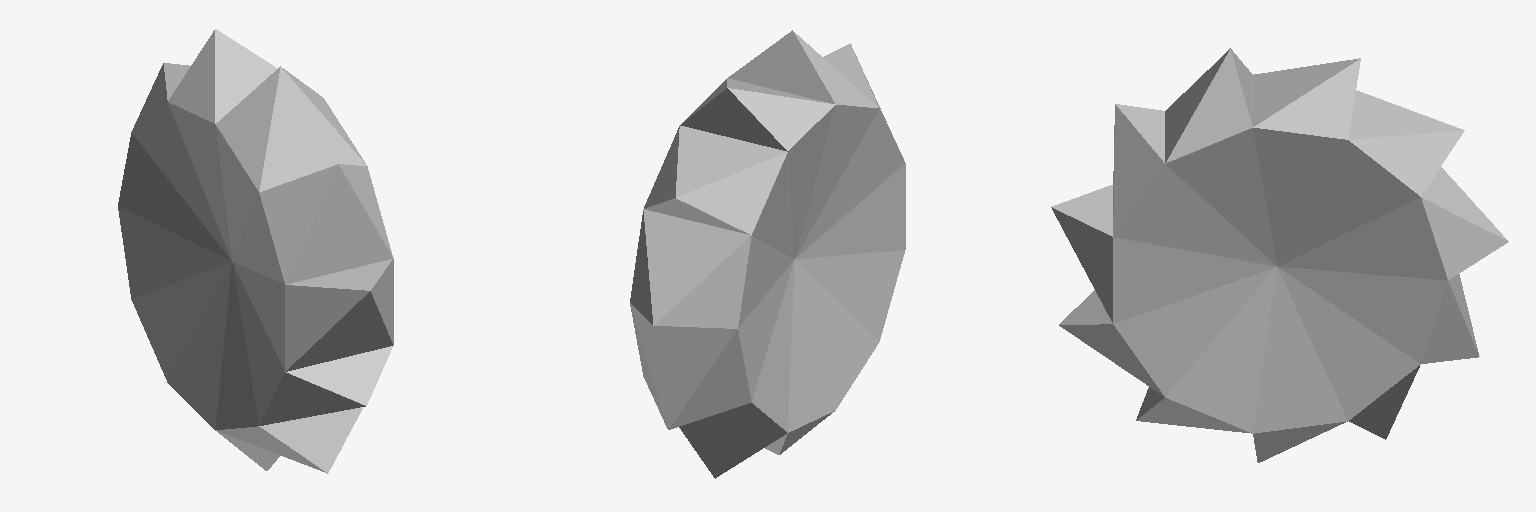
Rendered from saw.obj.
The picture shows the model from 3 angles: view 1: azimuth 30°, elevation 25°; view 2: azimuth 150°, elevation 25°; view 3: azimuth 270°, elevation 25°; orthographic projection.
Visible parts, largest first — view 1: Circle.001_Circle.002; view 2: Circle.001_Circle.002; view 3: Circle.001_Circle.002.
Part boxes in pixels (x1,y1,x2,y2): Circle.001_Circle.002: (118, 29, 393, 473); Circle.001_Circle.002: (630, 30, 905, 478); Circle.001_Circle.002: (1051, 48, 1508, 462).
Size of the model in its own units: 0.3 by 1.1 by 1.1.